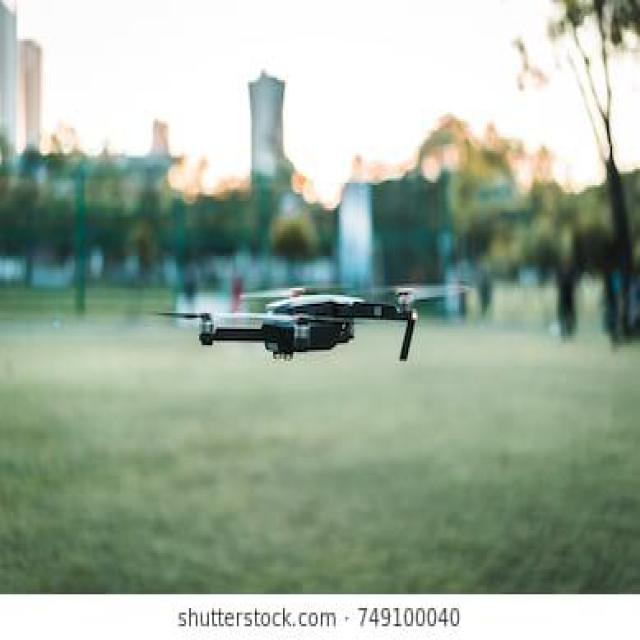drone: (133, 210, 486, 392)
